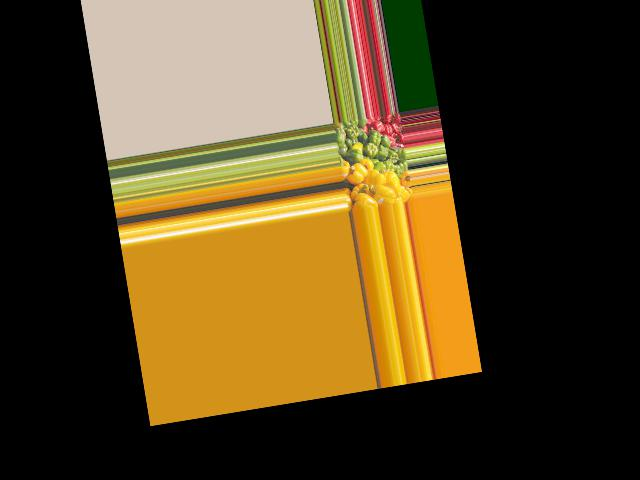bell_pepper: (332, 121, 346, 139)
